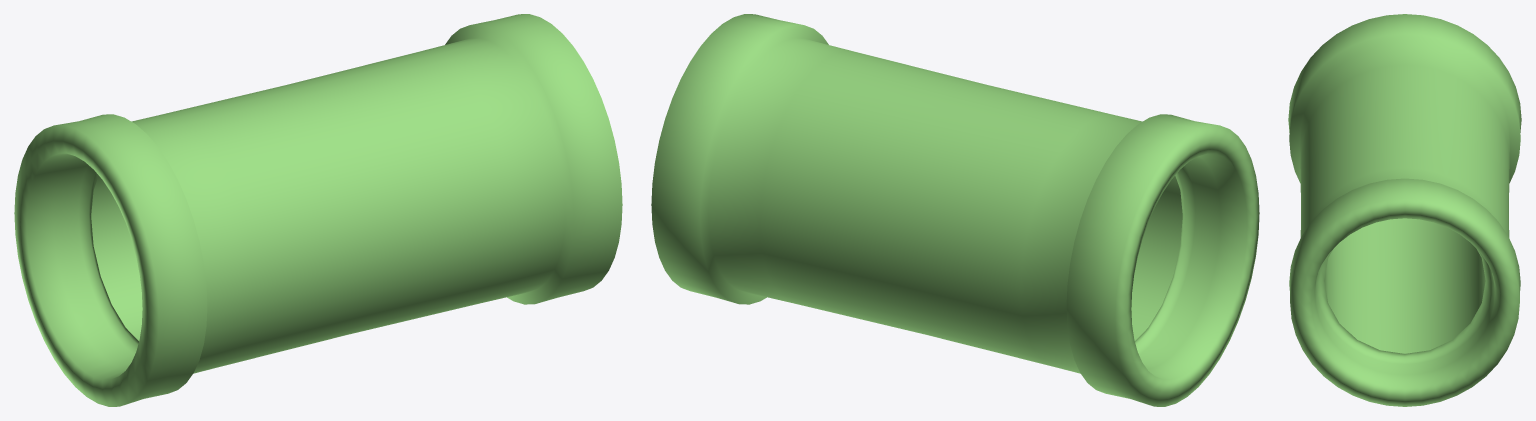
Rendered from buis.fbx.
3 renders of one model, left to right at view 1: azimuth 30°, elevation 25°; view 2: azimuth 150°, elevation 25°; view 3: azimuth 270°, elevation 25°, orthographic. The views are drawn at different scales.
Visible parts, largest first — view 1: grote_buis; view 2: grote_buis; view 3: grote_buis.
Boxes of the visible parts, <box> form: grote_buis: <box>14,14,622,406</box>; grote_buis: <box>651,14,1259,406</box>; grote_buis: <box>1288,14,1521,406</box>.
Bounding box in the file's own units: 211 × 112 × 112.
